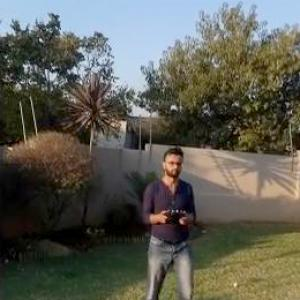follow: (138, 142, 201, 299)
